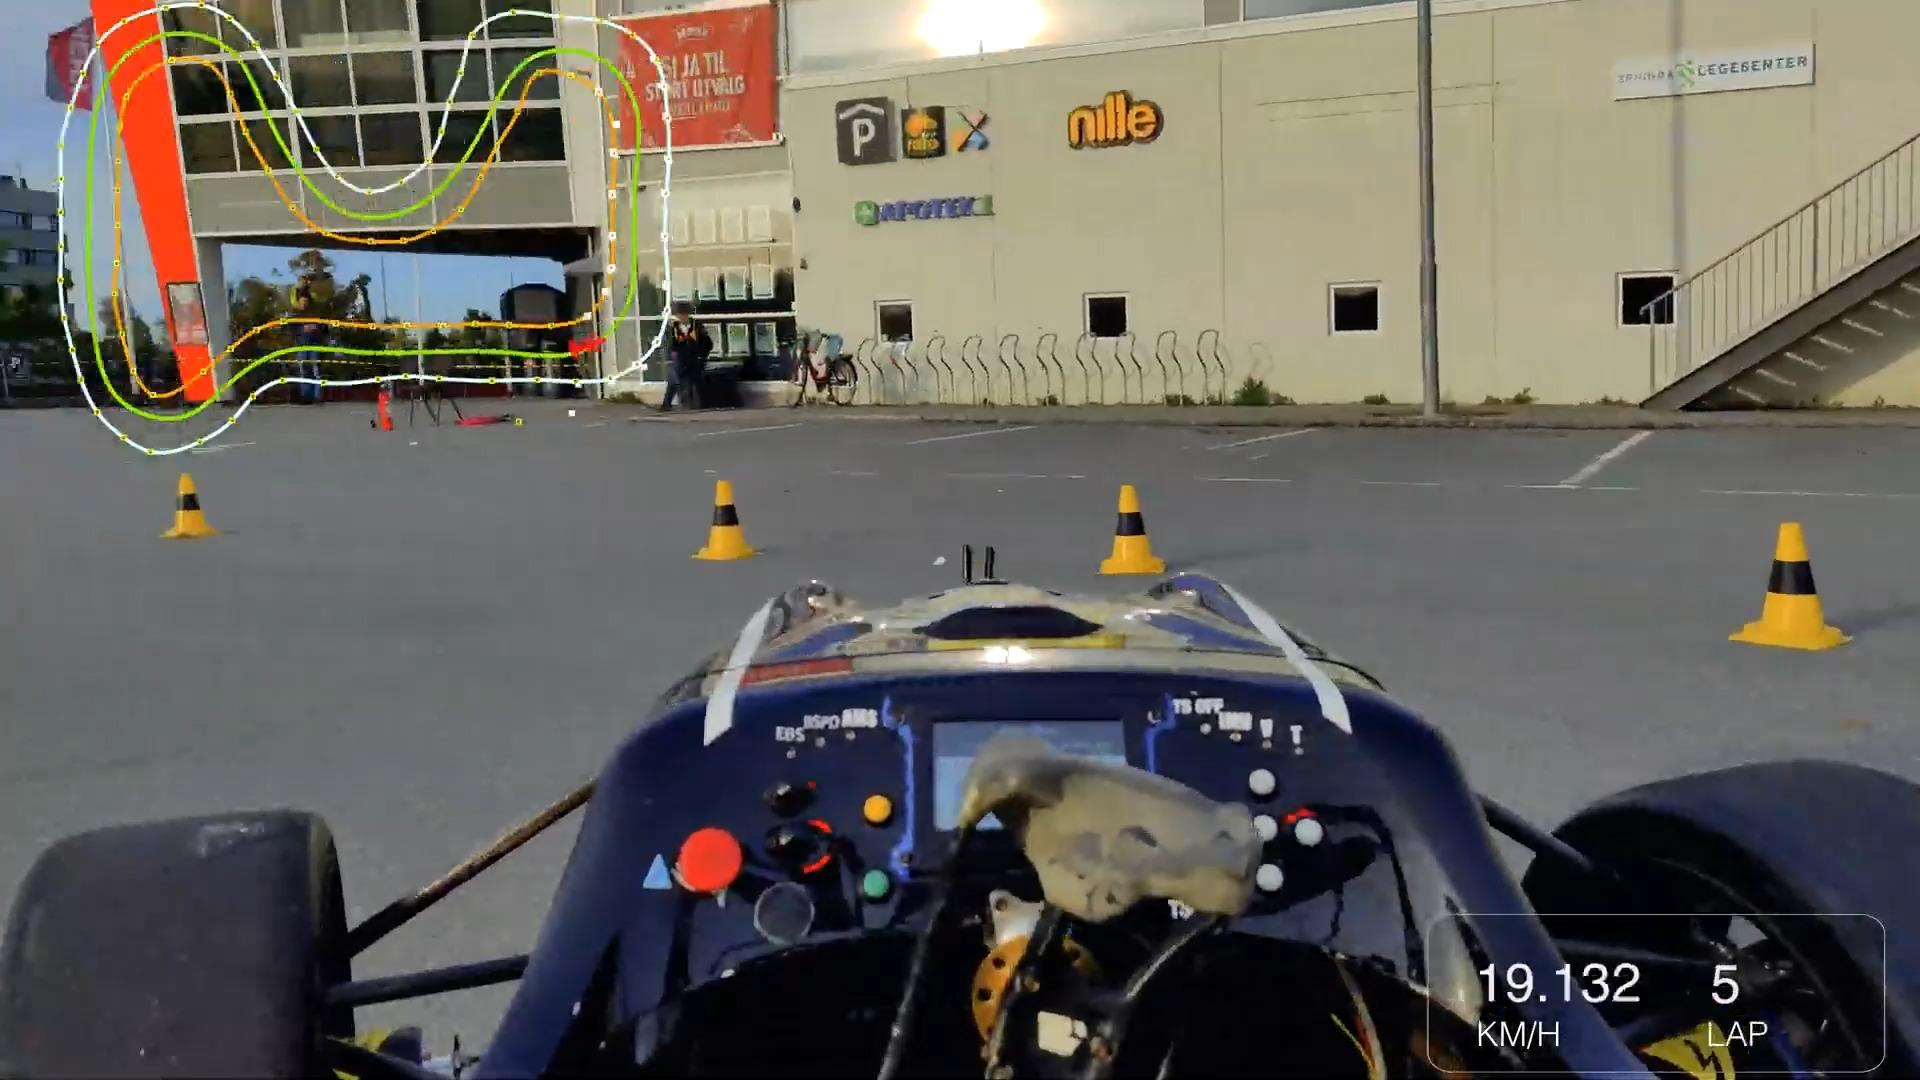yellow_cone: (1727, 516, 1856, 654), (688, 477, 764, 565), (1100, 482, 1166, 578), (166, 464, 227, 548)
